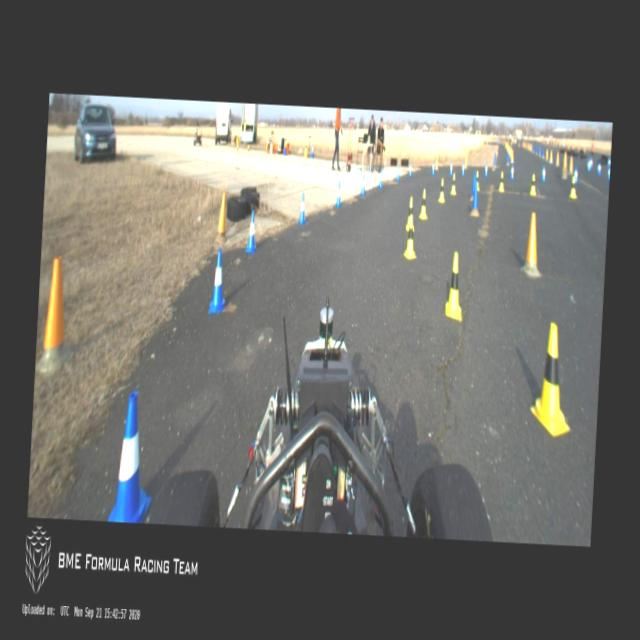blue_cone: (107, 389, 158, 524), (208, 248, 228, 315), (246, 210, 258, 254), (298, 192, 308, 224), (335, 181, 342, 209), (359, 174, 366, 196), (378, 168, 384, 188), (448, 160, 454, 176), (396, 164, 401, 182), (597, 160, 602, 177), (541, 165, 546, 182), (408, 161, 413, 177), (574, 165, 578, 184), (510, 163, 514, 180), (461, 160, 465, 177), (431, 160, 435, 176), (484, 162, 488, 178), (586, 158, 590, 172), (607, 166, 610, 182), (590, 155, 592, 171), (608, 156, 610, 169)
yellow_cone: (528, 321, 576, 438), (445, 251, 465, 323), (404, 214, 418, 261), (406, 196, 416, 232), (418, 188, 428, 220), (438, 178, 446, 203), (570, 176, 578, 199), (498, 171, 506, 193), (450, 173, 458, 195), (530, 174, 538, 196), (474, 171, 480, 193)
